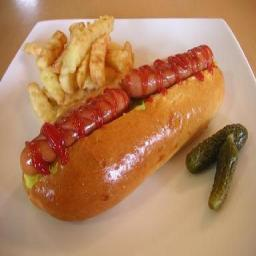hotdog: (18, 46, 225, 214), (12, 12, 141, 121)
